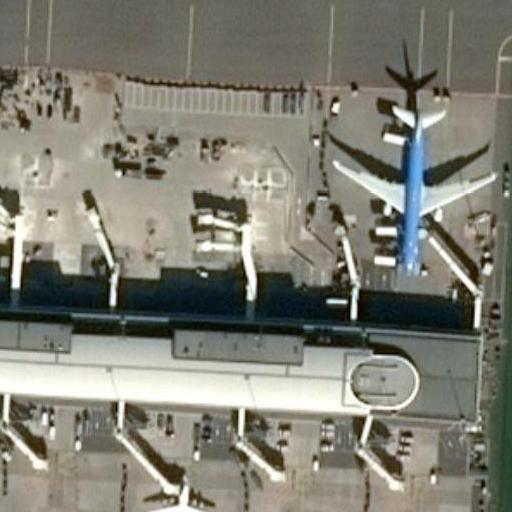Aircraft: (324, 90, 492, 278), (148, 473, 218, 512)
